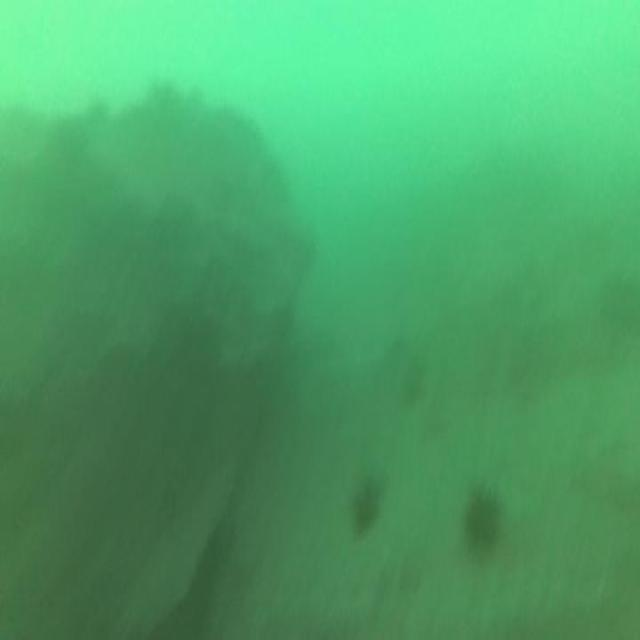echinus: (460, 484, 504, 554), (349, 482, 383, 542)
